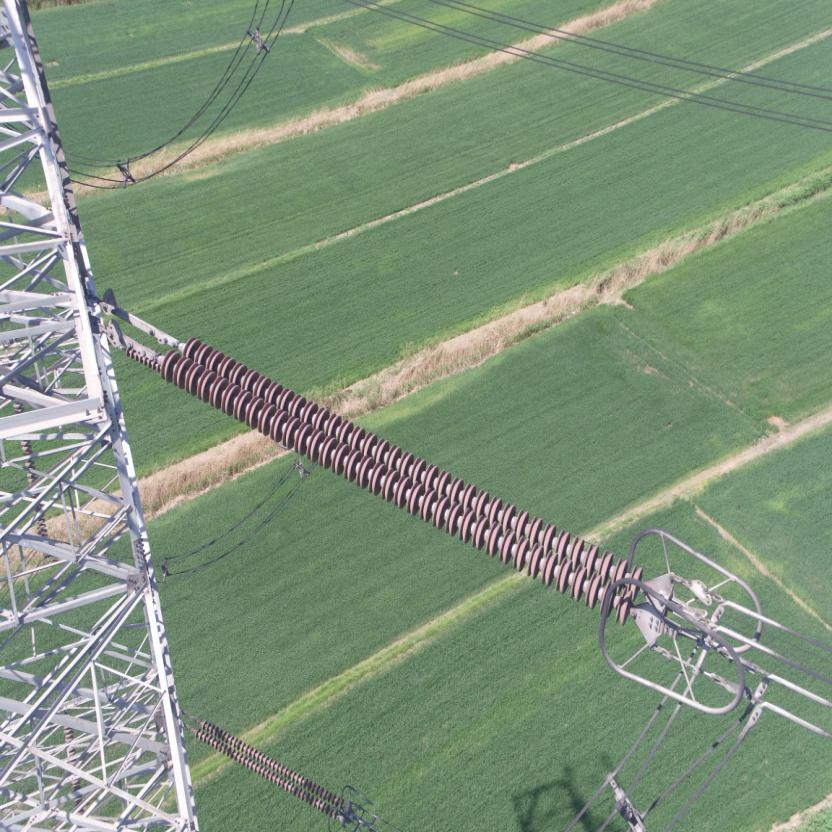insulator: (126, 327, 653, 627)
